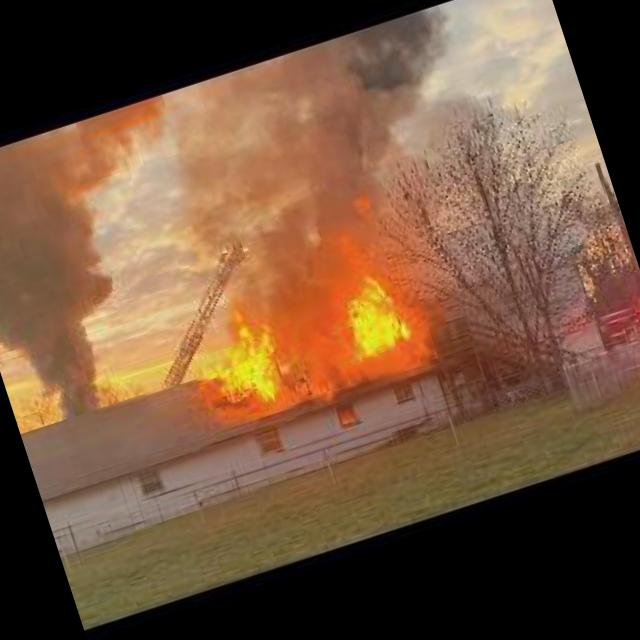fire: (162, 213, 438, 434), (350, 192, 378, 222)
smoke: (146, 1, 499, 274), (0, 125, 162, 436)
